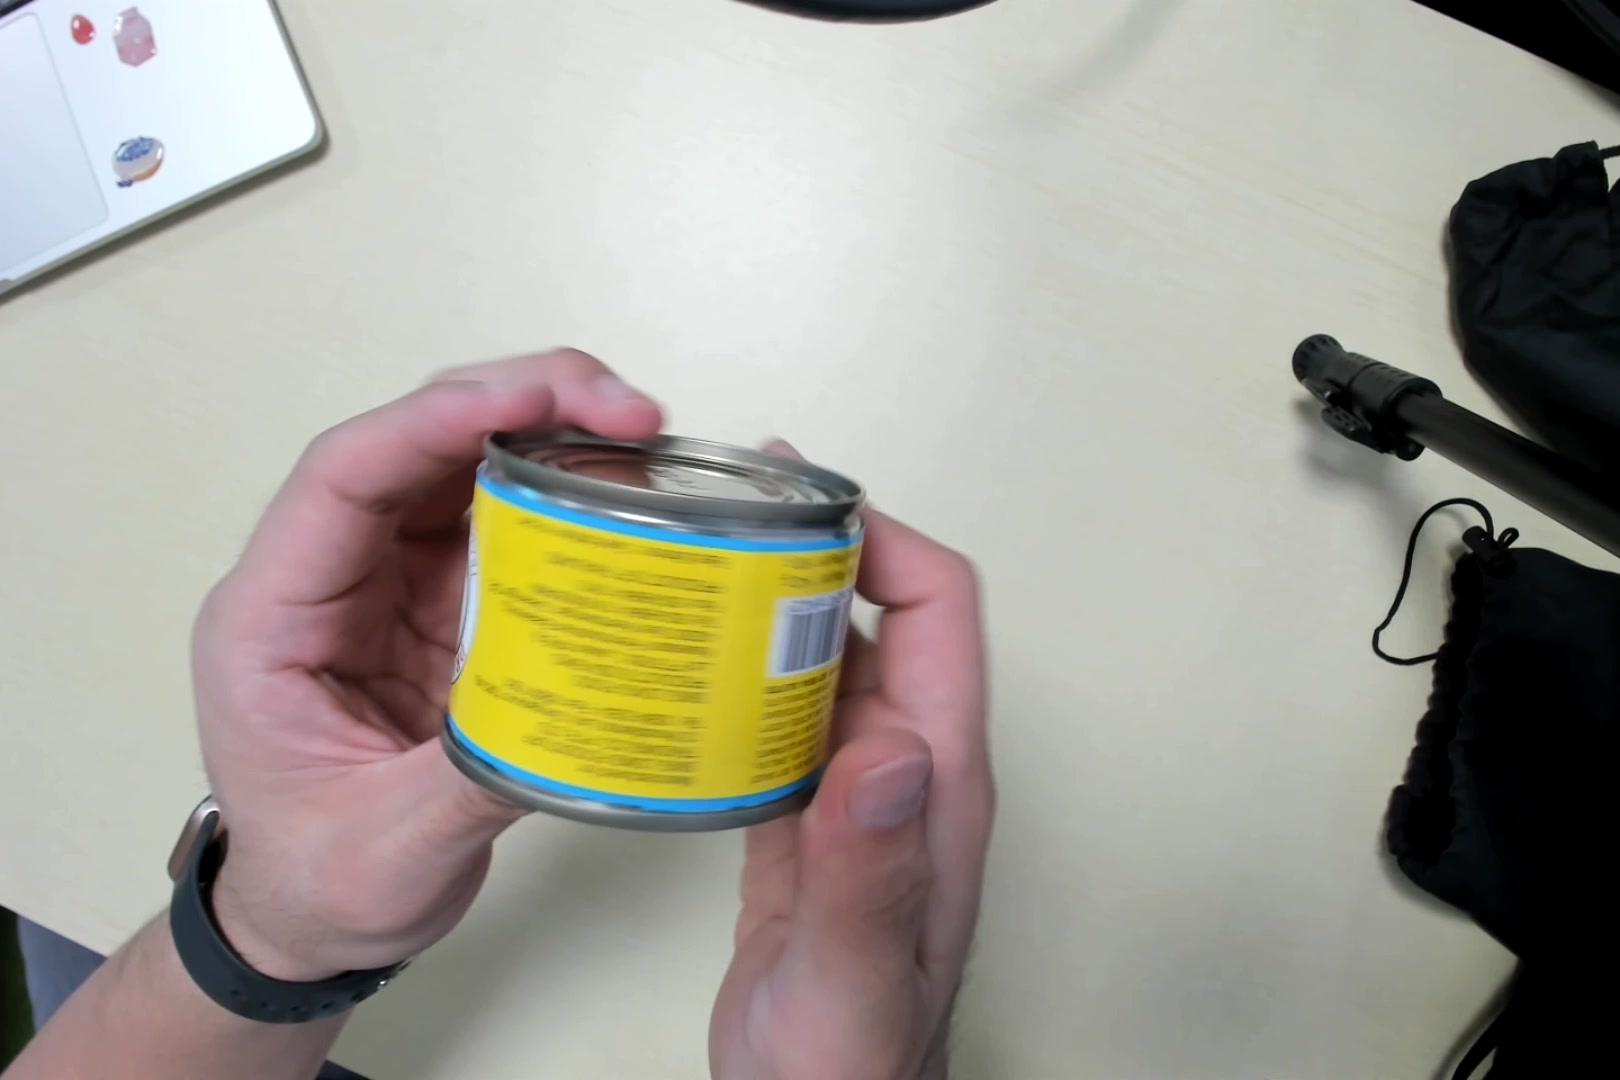CannedFruitsCocktail_0-99g_Halal_NonHealthy: (454, 438, 862, 814)
